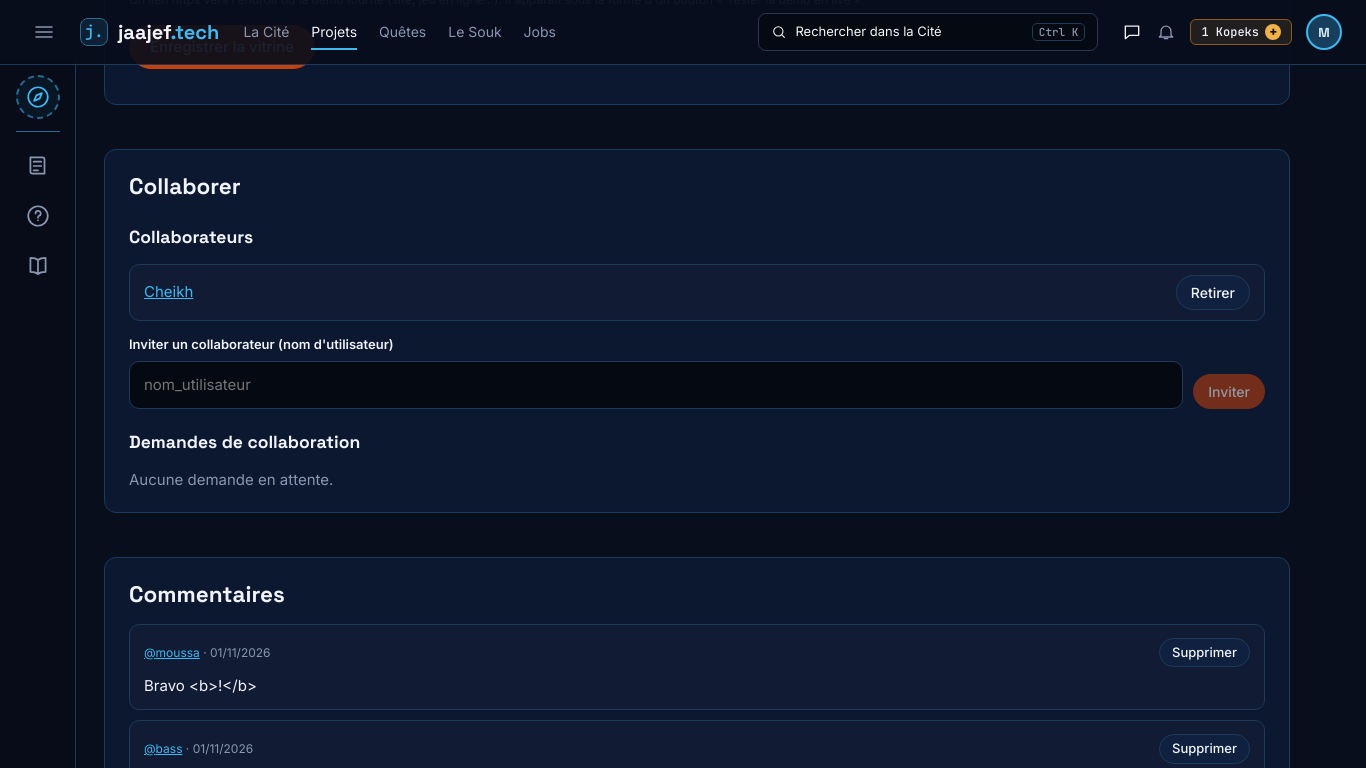
Test: Project page › explains in French when the username does not exist
(page scrolled)
Type "personne" into the dropdown labelled "Inviter un collaborateur (nom d'utilisateur)" at (656, 385), box [129, 361, 1183, 409]
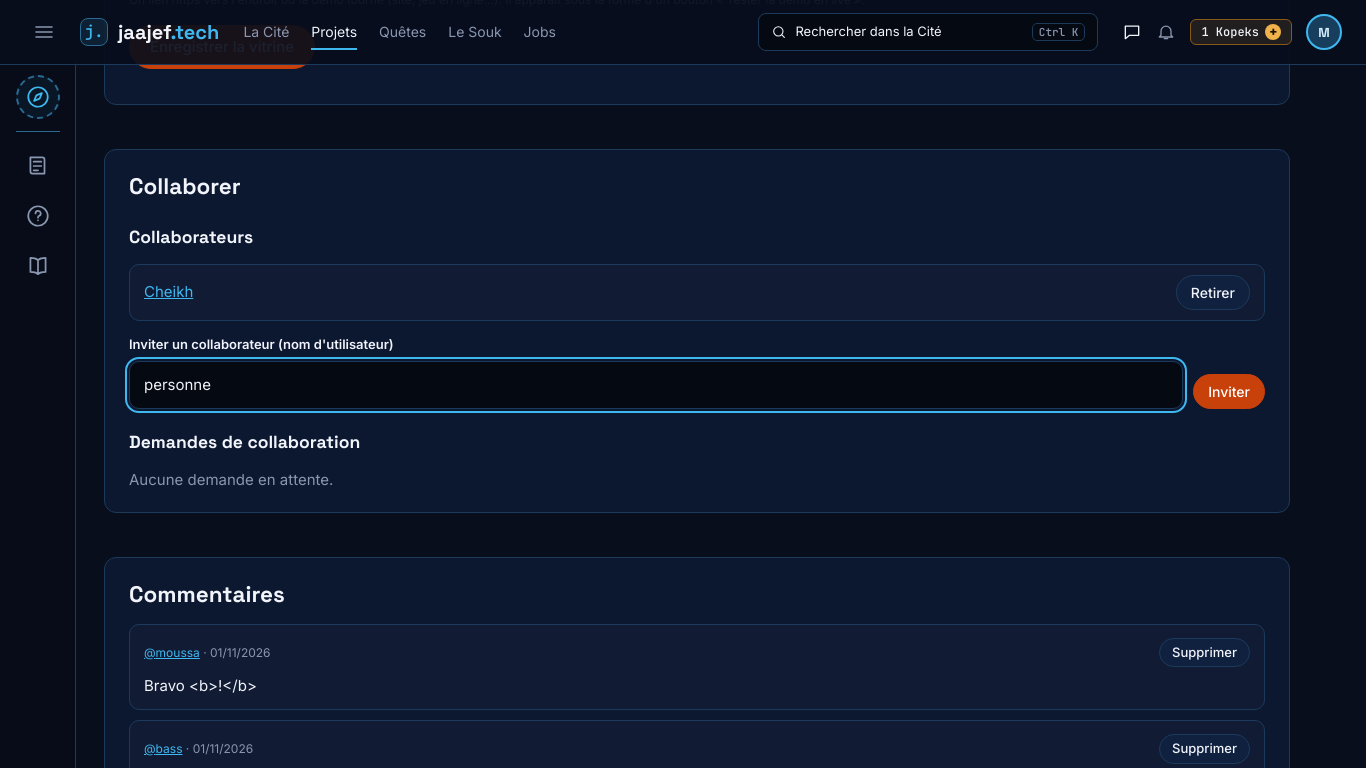
Click the button "Inviter" at (1229, 392), box [1193, 374, 1265, 409]
(page scrolled)
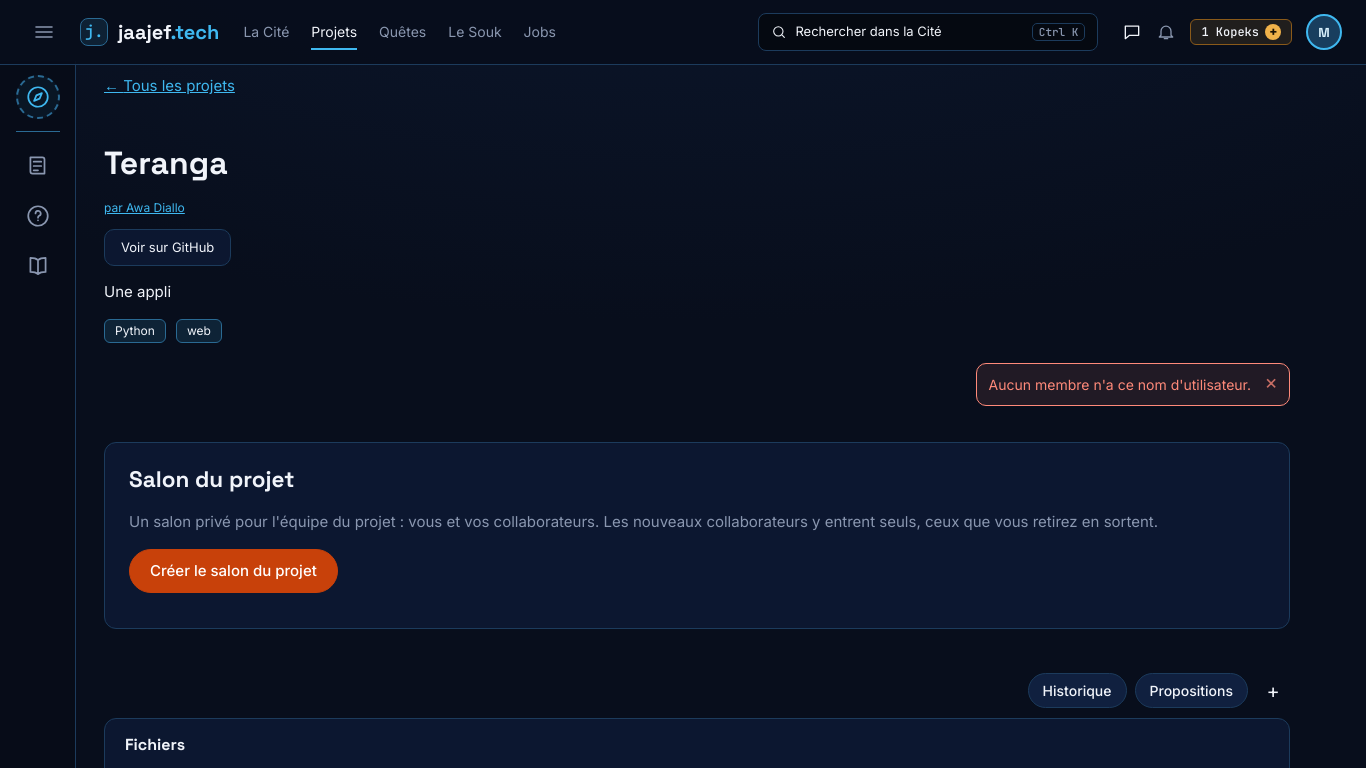
Check: the message reads "Aucun membre n'a ce nom d'utilisateur.", box [989, 376, 1251, 392]
